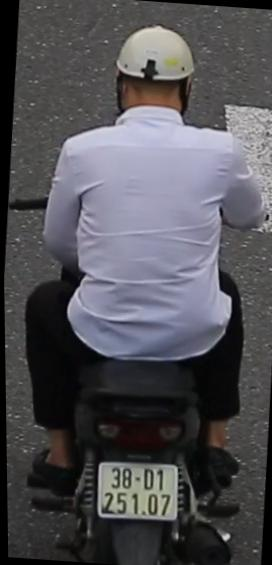LP: (91, 455, 183, 527)
helmet: (102, 15, 207, 136)
